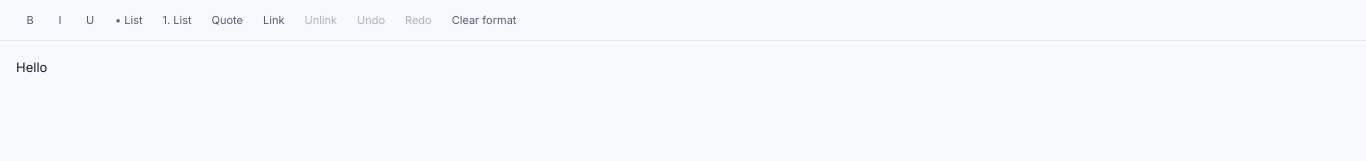
Test: keeps an invalid link open with contextual validation
Click the button with aria-label "Insert link". click: click(274, 20)
box: [254,8,293,32]
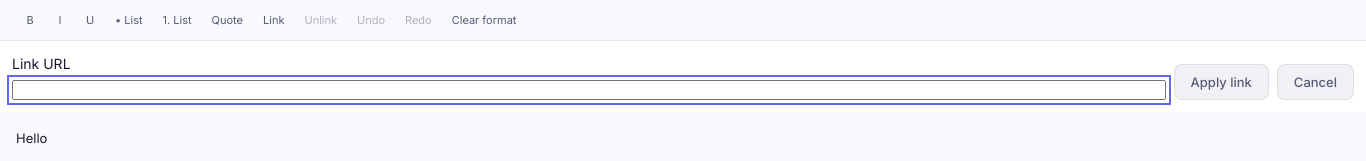
Type "javascript:alert(1)" into the field labelled "Link URL". click: (589, 90)
box: [12,80,1166,100]
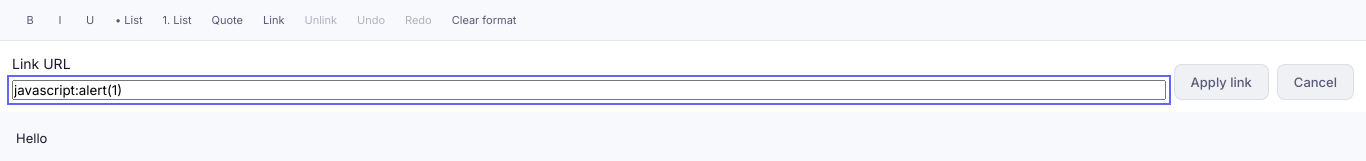
Click the button "Apply link". click: click(1221, 82)
box: [1174,64,1269,100]
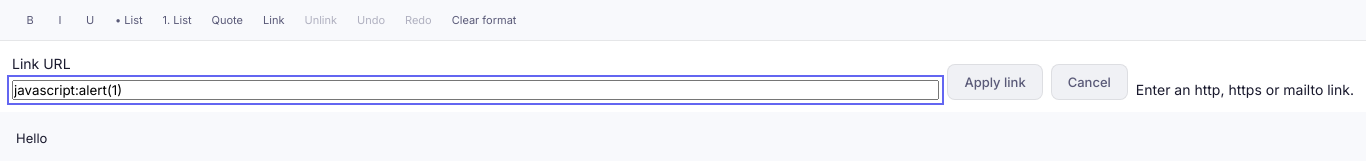
Expected: the message shows "http", [1136,81,1354,98]
